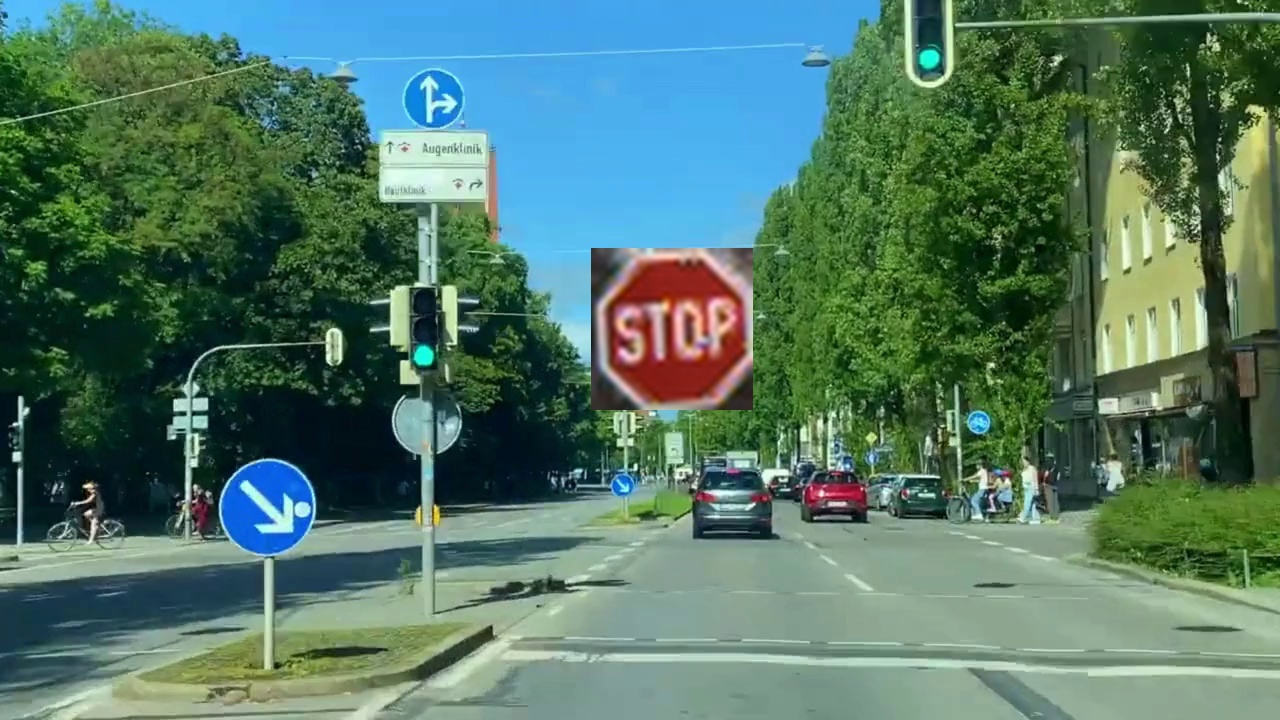Stop: (591, 248, 753, 410)
